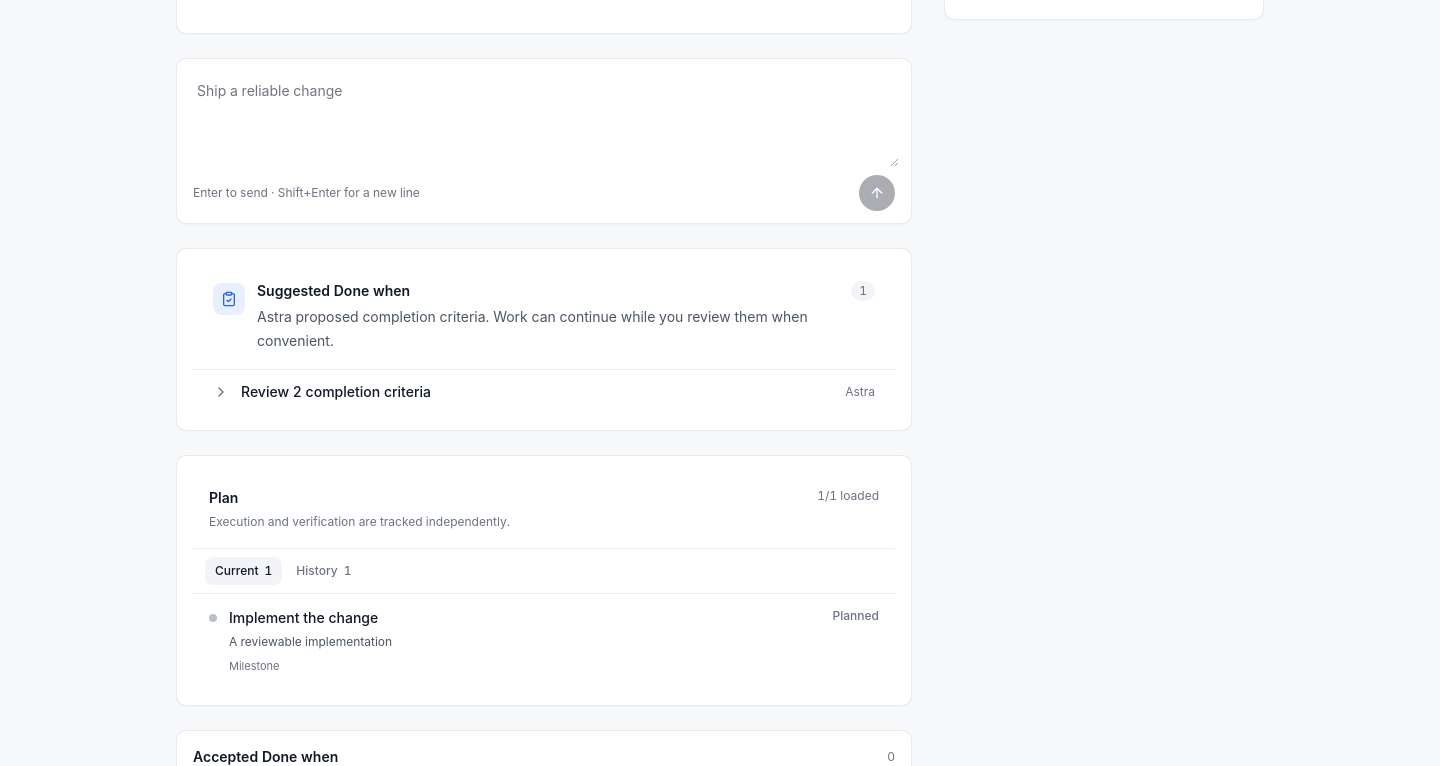
Test: refreshes typed stale decisions without interpreting error text
(page scrolled)
Click the button "Review 2 completion criteria Astra" at (267, 392), box [193, 370, 895, 414]
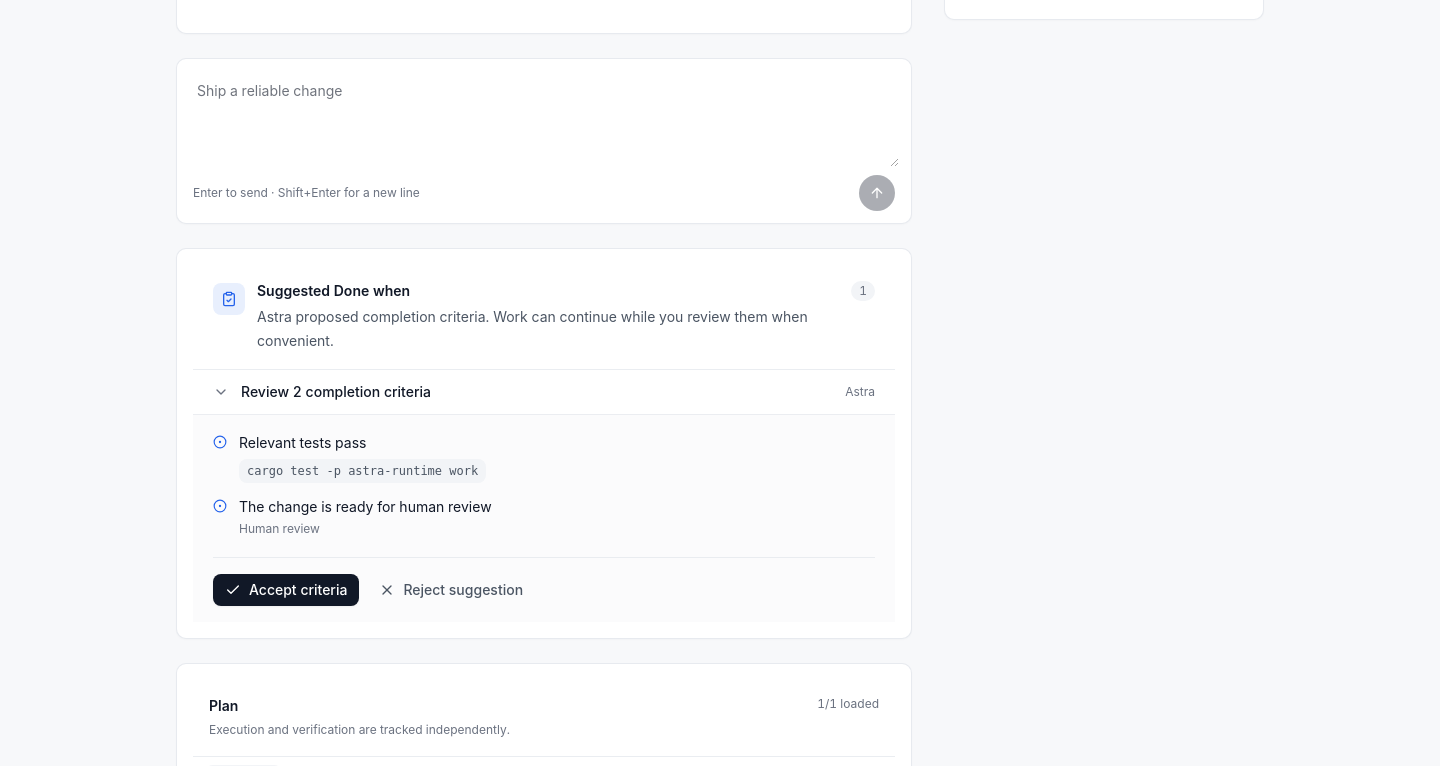
Click the button "Accept criteria" at (286, 590), box [213, 574, 359, 606]
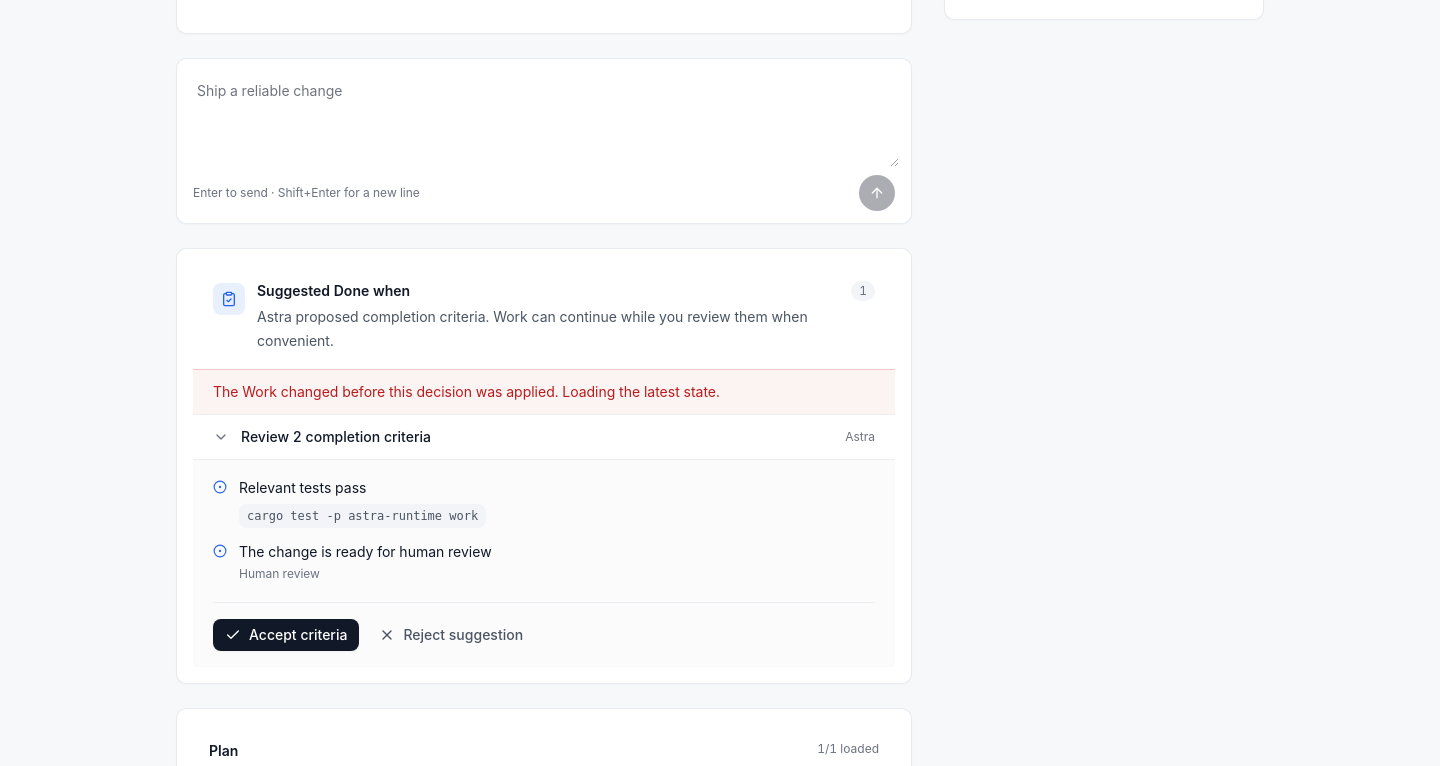
Expected: the text "The Work changed before this decision was applied. Loading the latest state." is shown, [193, 369, 895, 414]
